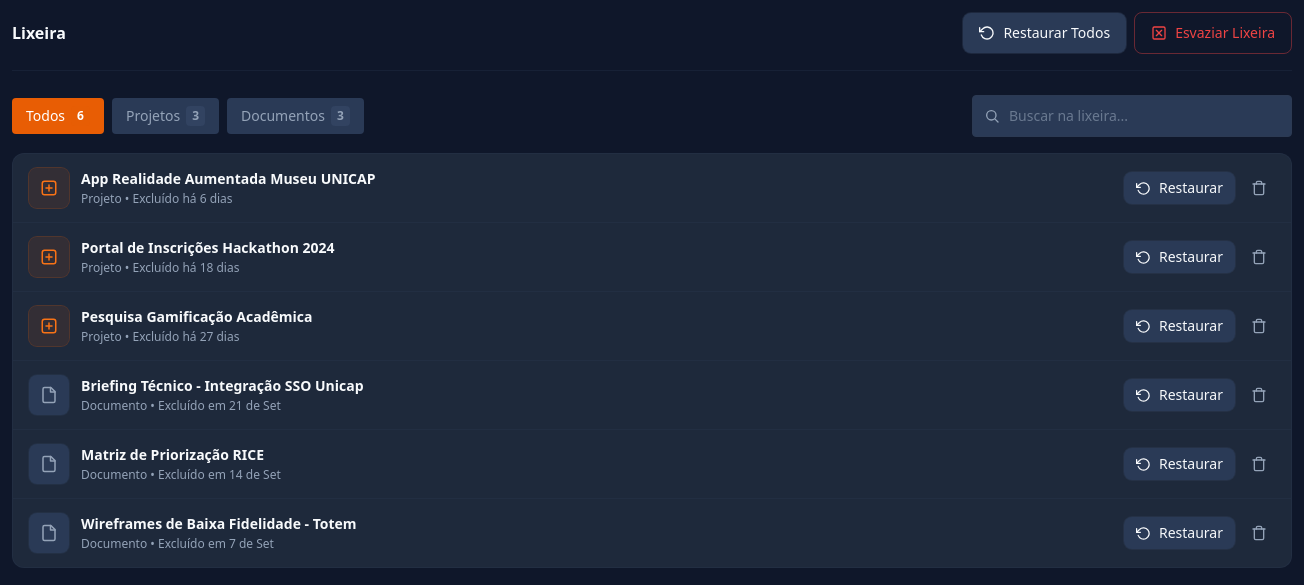
Test: Lixeira (janela) › filtra por Projetos e por Documentos
Click the button "Projetos 3": (165,116) [112, 98, 219, 134]
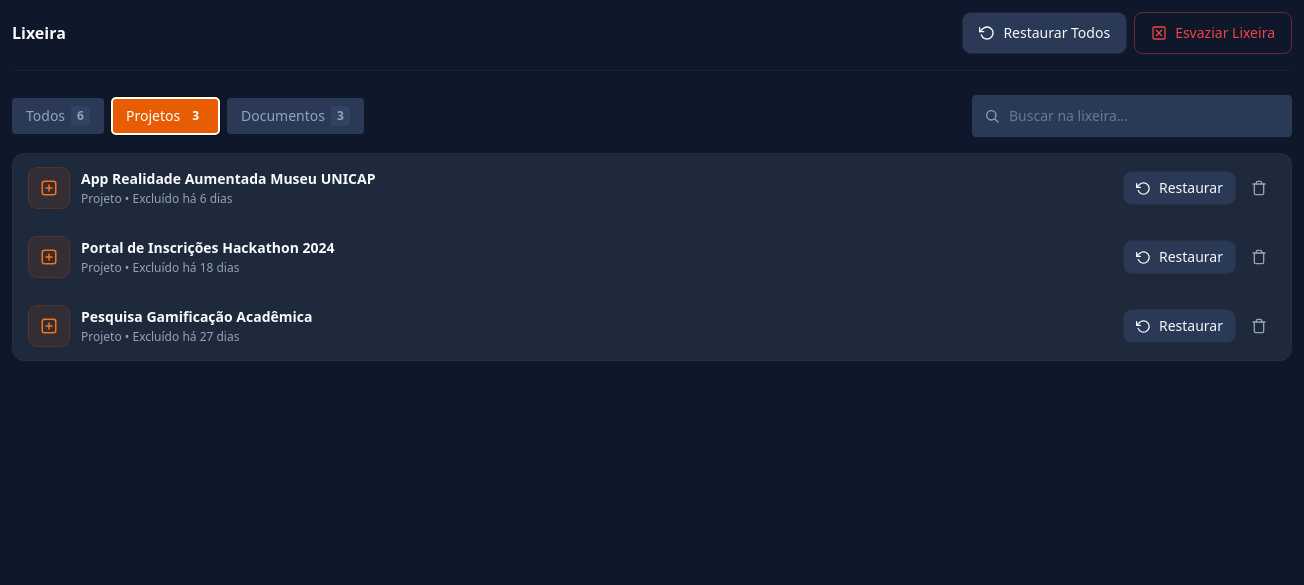
Result: the number of list items is 3 at [13, 154, 1291, 223]; [13, 223, 1291, 292]; [29, 306, 1275, 346]
Result: the text "Briefing Técnico - Integração SSO Unicap" is gone
Click the button "Documentos 3": (295,116) [227, 98, 364, 134]
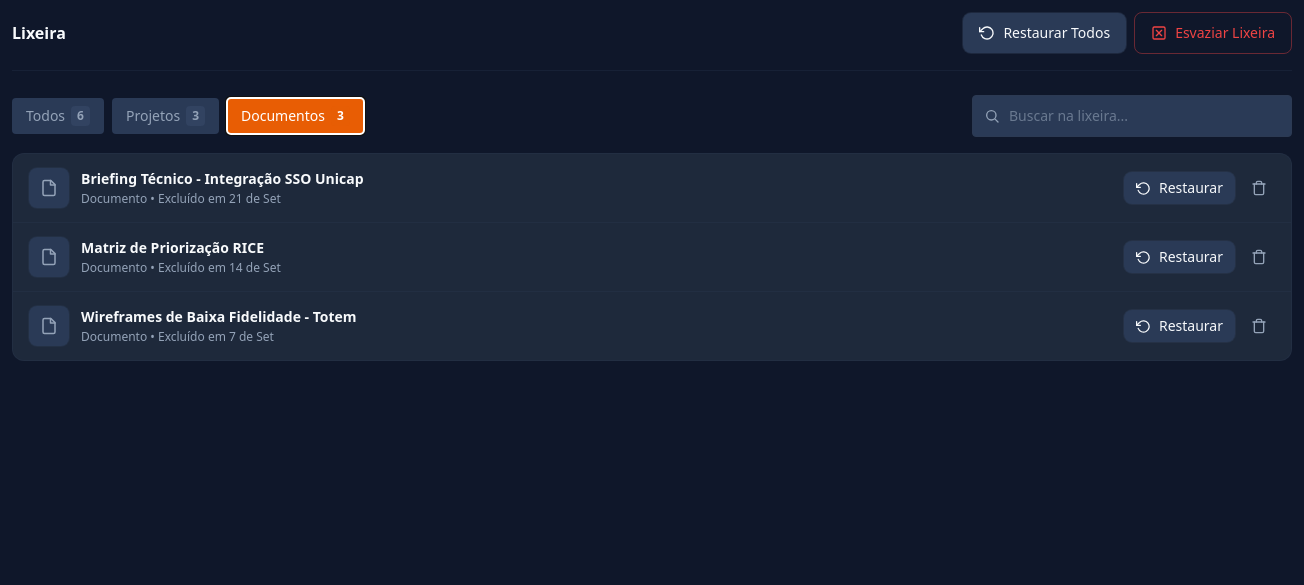
Result: the number of list items is 3 at [13, 154, 1291, 223]; [13, 223, 1291, 292]; [29, 306, 1275, 346]
Result: the text "App Realidade Aumentada Museu UNICAP" is gone
